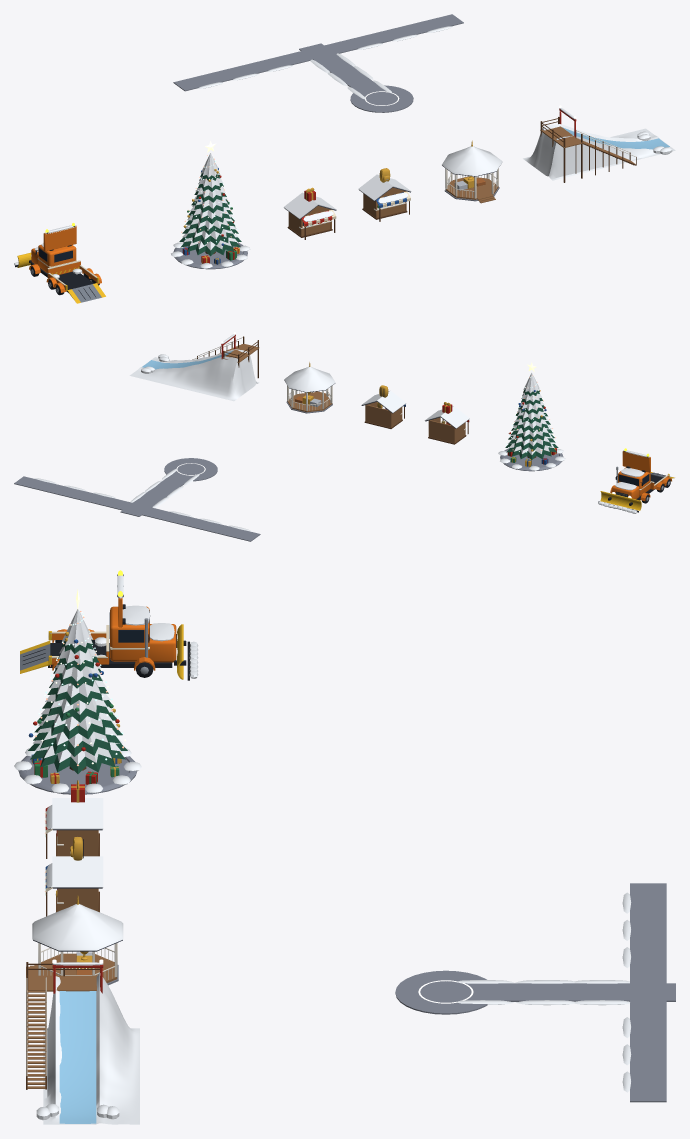
The model's file is lobby.fbx.
3 views of the same model, one above another, from view 1: azimuth 30°, elevation 25°; view 2: azimuth 150°, elevation 25°; view 3: azimuth 270°, elevation 25° (orthographic). The views are drawn at different scales.
Parts seen in each view (by area): view 1: Lobby_Plaza_Stone, Lobby_Hill_Snow, Lobby_BigTree_Snow, Lobby_BigTree_Fir, Lobby_Truck_Body, Lobby_Gazebo_Snow, Lobby_Plaza_Snow, Lobby_Hill_WoodDark, Lobby_UpgradeKiosk_Snow, Lobby_ShopKiosk_Snow, Lobby_BigTree_Stone, Lobby_Gazebo_Wood (+6 smaller); view 2: Lobby_Plaza_Stone, Lobby_Hill_Snow, Lobby_BigTree_Snow, Lobby_BigTree_Fir, Lobby_Truck_Body, Lobby_Gazebo_Snow, Lobby_Plaza_Snow, Lobby_UpgradeKiosk_Wood, Lobby_ShopKiosk_Wood, Lobby_BigTree_Stone, Lobby_Truck_Snow, Lobby_Gazebo_Wood (+6 smaller); view 3: Lobby_Plaza_Stone, Lobby_Hill_Snow, Lobby_BigTree_Snow, Lobby_Hill_Ice, Lobby_BigTree_Fir, Lobby_Gazebo_Snow, Lobby_Hill_Wood, Lobby_Truck_Body, Lobby_Plaza_Snow, Lobby_UpgradeKiosk_Snow, Lobby_ShopKiosk_Snow, Lobby_BigTree_Stone (+5 smaller).
Part boxes in pixels (box(x1,y1,x2,y2)): Lobby_Plaza_Stone: box(173, 14, 463, 112); Lobby_Hill_Snow: box(523, 108, 675, 180); Lobby_BigTree_Snow: box(171, 153, 250, 268); Lobby_BigTree_Fir: box(179, 173, 241, 256); Lobby_Truck_Body: box(29, 226, 101, 292); Lobby_Gazebo_Snow: box(442, 146, 502, 176); Lobby_Plaza_Snow: box(197, 26, 452, 99); Lobby_Hill_WoodDark: box(540, 117, 636, 182); Lobby_UpgradeKiosk_Snow: box(358, 174, 411, 203); Lobby_ShopKiosk_Snow: box(283, 192, 336, 221); Lobby_BigTree_Stone: box(173, 242, 247, 269); Lobby_Gazebo_Wood: box(445, 176, 498, 203); Lobby_Plaza_Stone: box(14, 458, 260, 541); Lobby_Hill_Snow: box(129, 334, 259, 401); Lobby_BigTree_Snow: box(498, 372, 565, 470); Lobby_BigTree_Fir: box(505, 389, 558, 459); Lobby_Truck_Body: box(610, 451, 671, 501); Lobby_Gazebo_Snow: box(284, 366, 335, 392); Lobby_Plaza_Snow: box(34, 468, 250, 531); Lobby_UpgradeKiosk_Wood: box(365, 402, 402, 427); Lobby_ShopKiosk_Wood: box(428, 417, 465, 443); Lobby_BigTree_Stone: box(500, 448, 563, 471); Lobby_Truck_Snow: box(598, 450, 649, 513); Lobby_Gazebo_Wood: box(287, 391, 332, 412); Lobby_Plaza_Stone: box(395, 883, 675, 1102); Lobby_Hill_Snow: box(36, 962, 139, 1124); Lobby_BigTree_Snow: box(14, 609, 141, 793); Lobby_Hill_Ice: box(59, 991, 96, 1123); Lobby_BigTree_Fir: box(28, 639, 127, 773); Lobby_Gazebo_Snow: box(32, 904, 123, 950); Lobby_Hill_Wood: box(26, 975, 97, 1088); Lobby_Truck_Body: box(52, 598, 176, 670); Lobby_Plaza_Snow: box(456, 892, 631, 1092); Lobby_UpgradeKiosk_Snow: box(46, 856, 103, 888); Lobby_ShopKiosk_Snow: box(46, 798, 103, 829); Lobby_BigTree_Stone: box(18, 756, 137, 794).
Bounding box in the file's own units: 247 × 43.85 × 144.
